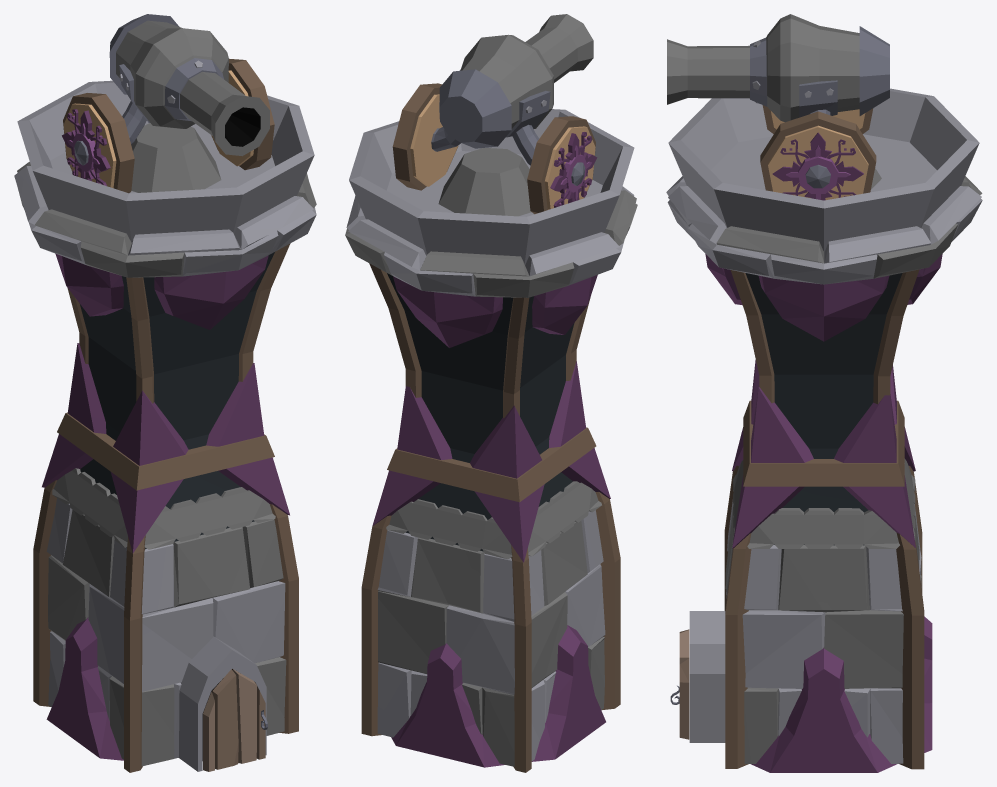
The model's file is Cannon_LVL2.fbx.
3 views of the same model, side by side, from view 1: azimuth 30°, elevation 25°; view 2: azimuth 150°, elevation 25°; view 3: azimuth 270°, elevation 25° (orthographic). The views are drawn at different scales.
Parts seen in each view (by area): view 1: Cannon_tower_LVL_2, Cannon_tower_LVL_2.001; view 2: Cannon_tower_LVL_2, Cannon_tower_LVL_2.001; view 3: Cannon_tower_LVL_2, Cannon_tower_LVL_2.001.
Part boxes in pixels (bbox=[...]): Cannon_tower_LVL_2: bbox=[14, 80, 316, 772]; Cannon_tower_LVL_2.001: bbox=[62, 14, 274, 193]; Cannon_tower_LVL_2: bbox=[345, 109, 637, 772]; Cannon_tower_LVL_2.001: bbox=[392, 14, 597, 214]; Cannon_tower_LVL_2: bbox=[666, 88, 982, 772]; Cannon_tower_LVL_2.001: bbox=[667, 14, 889, 200].
Size of the model in its own units: 604 by 1488 by 603.
